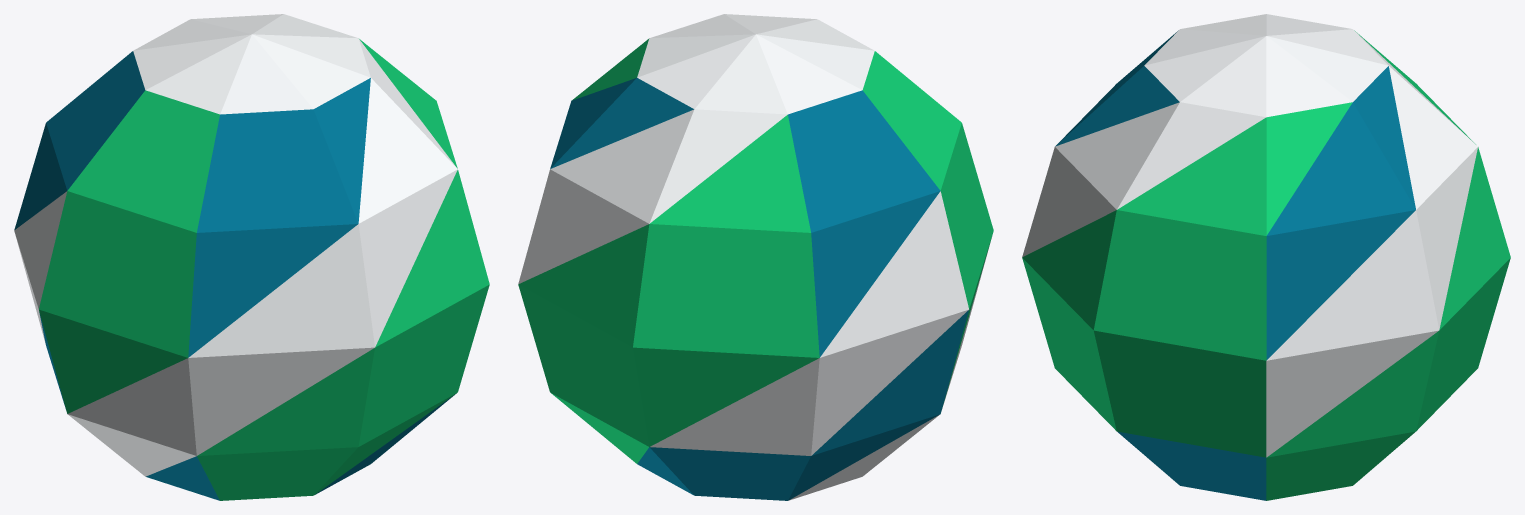
Rendered from space_planet_a.gltf.
3 renders of one model, left to right at view 1: azimuth 30°, elevation 25°; view 2: azimuth 150°, elevation 25°; view 3: azimuth 270°, elevation 25°, orthographic.
Visible parts, largest first — view 1: space_planet; view 2: space_planet; view 3: space_planet.
Part boxes in pixels (box(x1,y1,x2,y2)): space_planet: box(14, 14, 489, 500); space_planet: box(518, 14, 993, 500); space_planet: box(1022, 14, 1510, 500).
Bounding box in the file's own units: 10 × 10 × 10.
